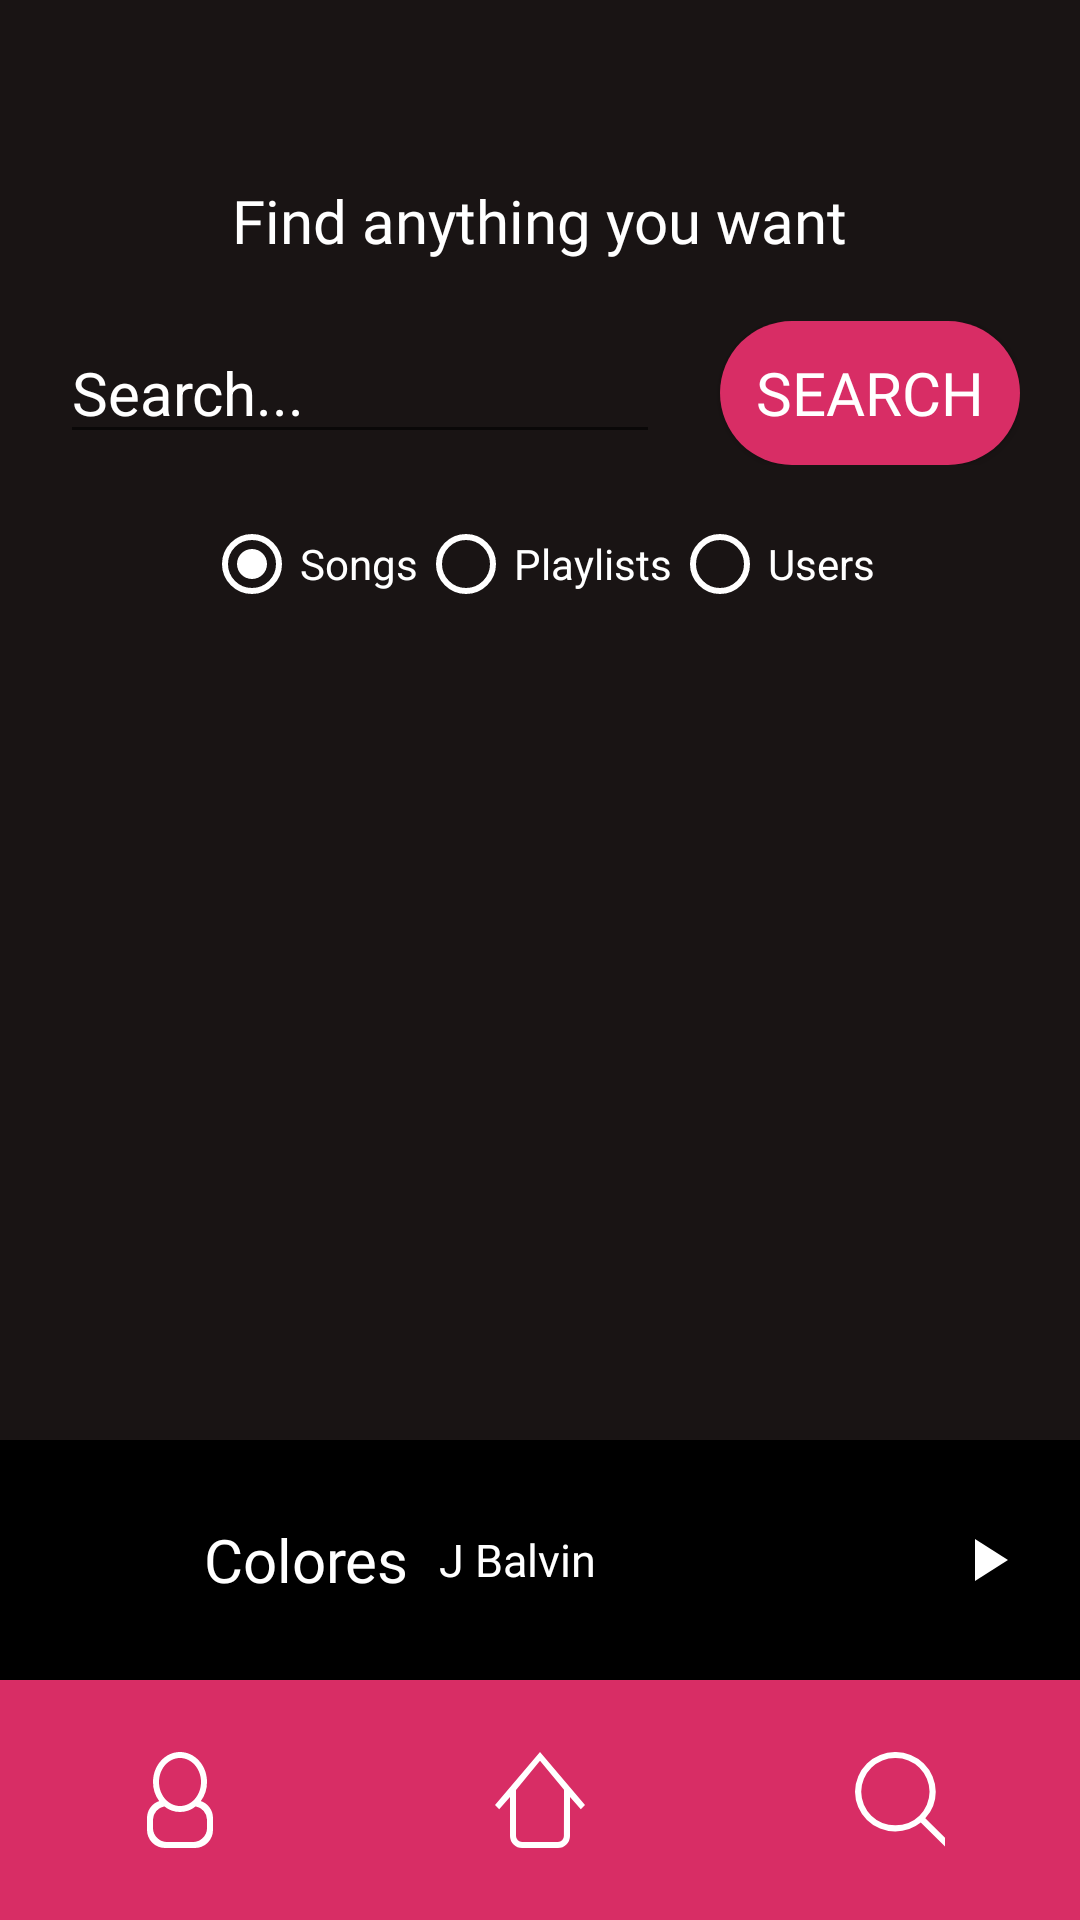

Locate icon controls on the screen. Image size 1080w x 1920h, boxes as (x1, y1, x2, y2).
home: (495, 1752, 585, 1848)
play: (975, 1539, 1008, 1581)
profile: (147, 1752, 213, 1848)
search: (855, 1752, 945, 1847)
